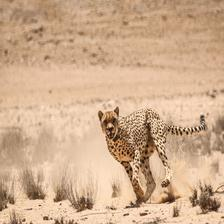Cheetah: (94, 104, 210, 206)
